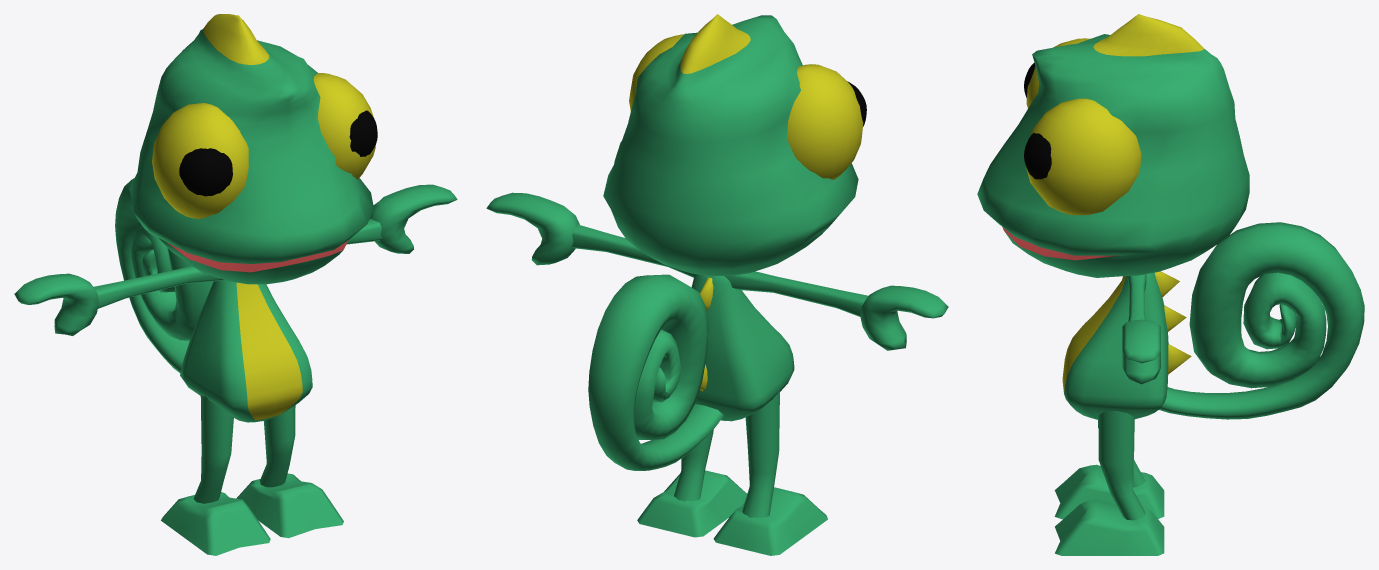
The model's file is Chameleon_TEST.fbx.
3 renders of one model, left to right at view 1: azimuth 30°, elevation 25°; view 2: azimuth 150°, elevation 25°; view 3: azimuth 270°, elevation 25°, orthographic. The views are drawn at different scales.
Visible parts, largest first — view 1: Head1, Eye_l2, pSphere2, pSphere1; view 2: Head1, Eye_l2; view 3: Head1, Eye_l2, pSphere1.
Boxes of the visible parts, x1,y1,x2,y2 form: Head1: (14,14,457,555); Eye_l2: (152,73,375,218); pSphere2: (179,148,232,196); pSphere1: (349,110,377,156); Head1: (486,14,948,555); Eye_l2: (629,34,863,179); Head1: (977,14,1364,555); Eye_l2: (1026,38,1141,215); pSphere1: (1024,133,1051,179).
Size of the model in its own units: 4.13 by 4.48 by 3.1.
